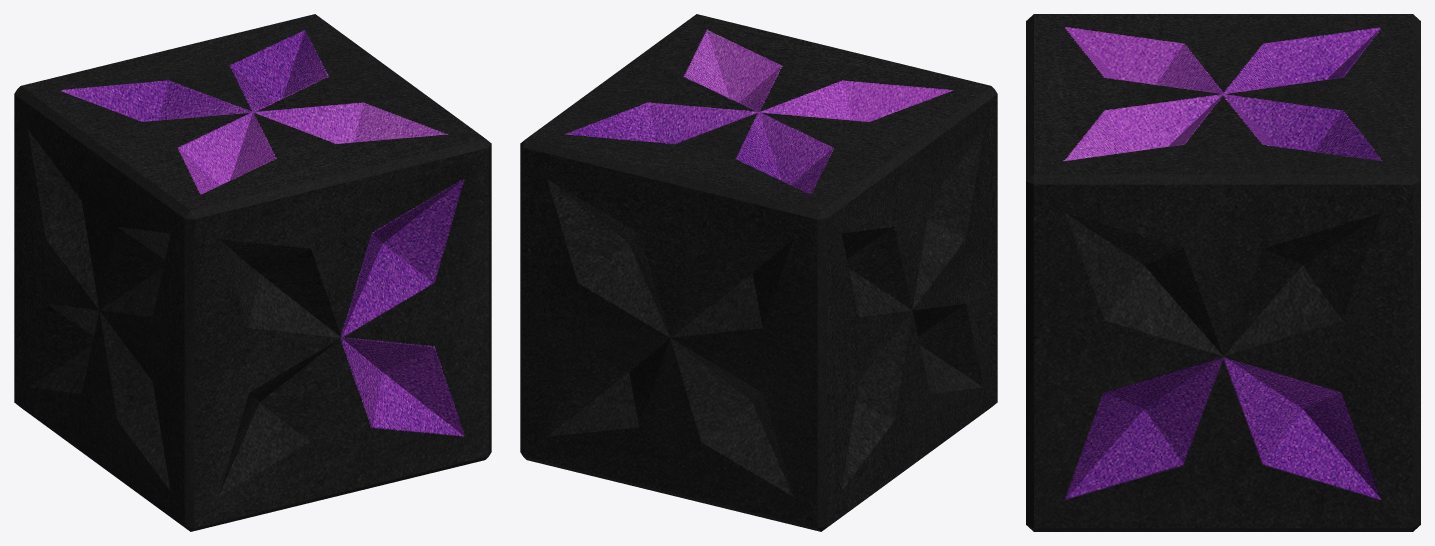
The model's file is vitruvium-d6.glb.
3 views of the same model, side by side, from view 1: azimuth 30°, elevation 25°; view 2: azimuth 150°, elevation 25°; view 3: azimuth 270°, elevation 25° (orthographic). The views are drawn at different scales.
Parts seen in each view (by area): view 1: Mesh_0; view 2: Mesh_0; view 3: Mesh_0.
Boxes of the visible parts, x1,y1,x2,y2 form: Mesh_0: [14, 14, 491, 531]; Mesh_0: [520, 14, 997, 531]; Mesh_0: [1026, 14, 1420, 531].
Bounding box in the file's own units: 104 × 104 × 104.
Materials: 1 (1 with a texture image).
